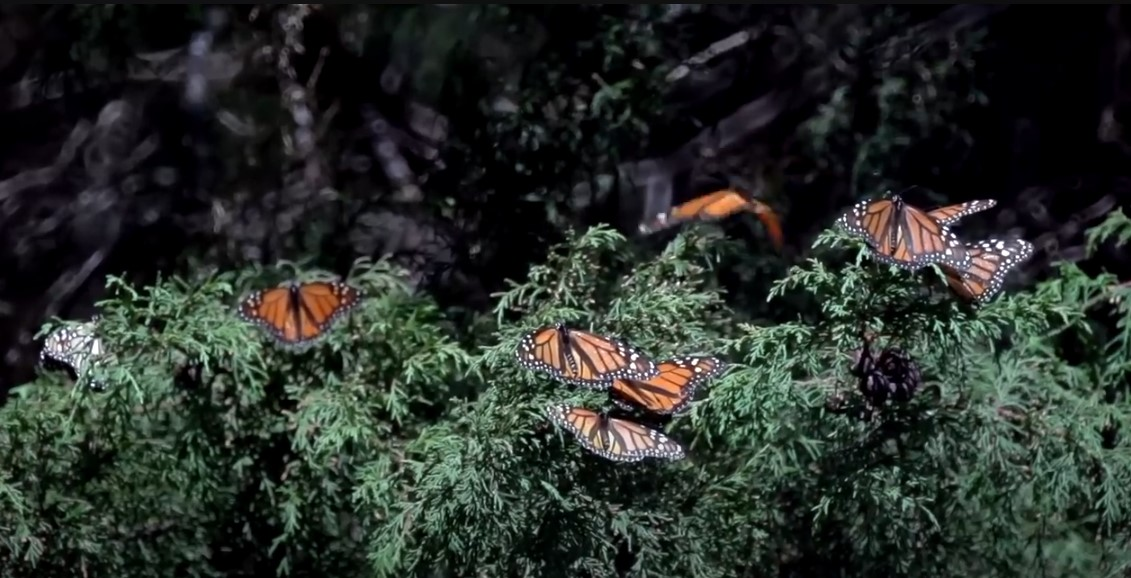Butterfly: (839, 189, 970, 270), (632, 184, 790, 249), (508, 318, 663, 384), (235, 277, 365, 348), (545, 403, 685, 464), (604, 355, 721, 414), (941, 237, 1037, 300), (41, 315, 115, 383)
